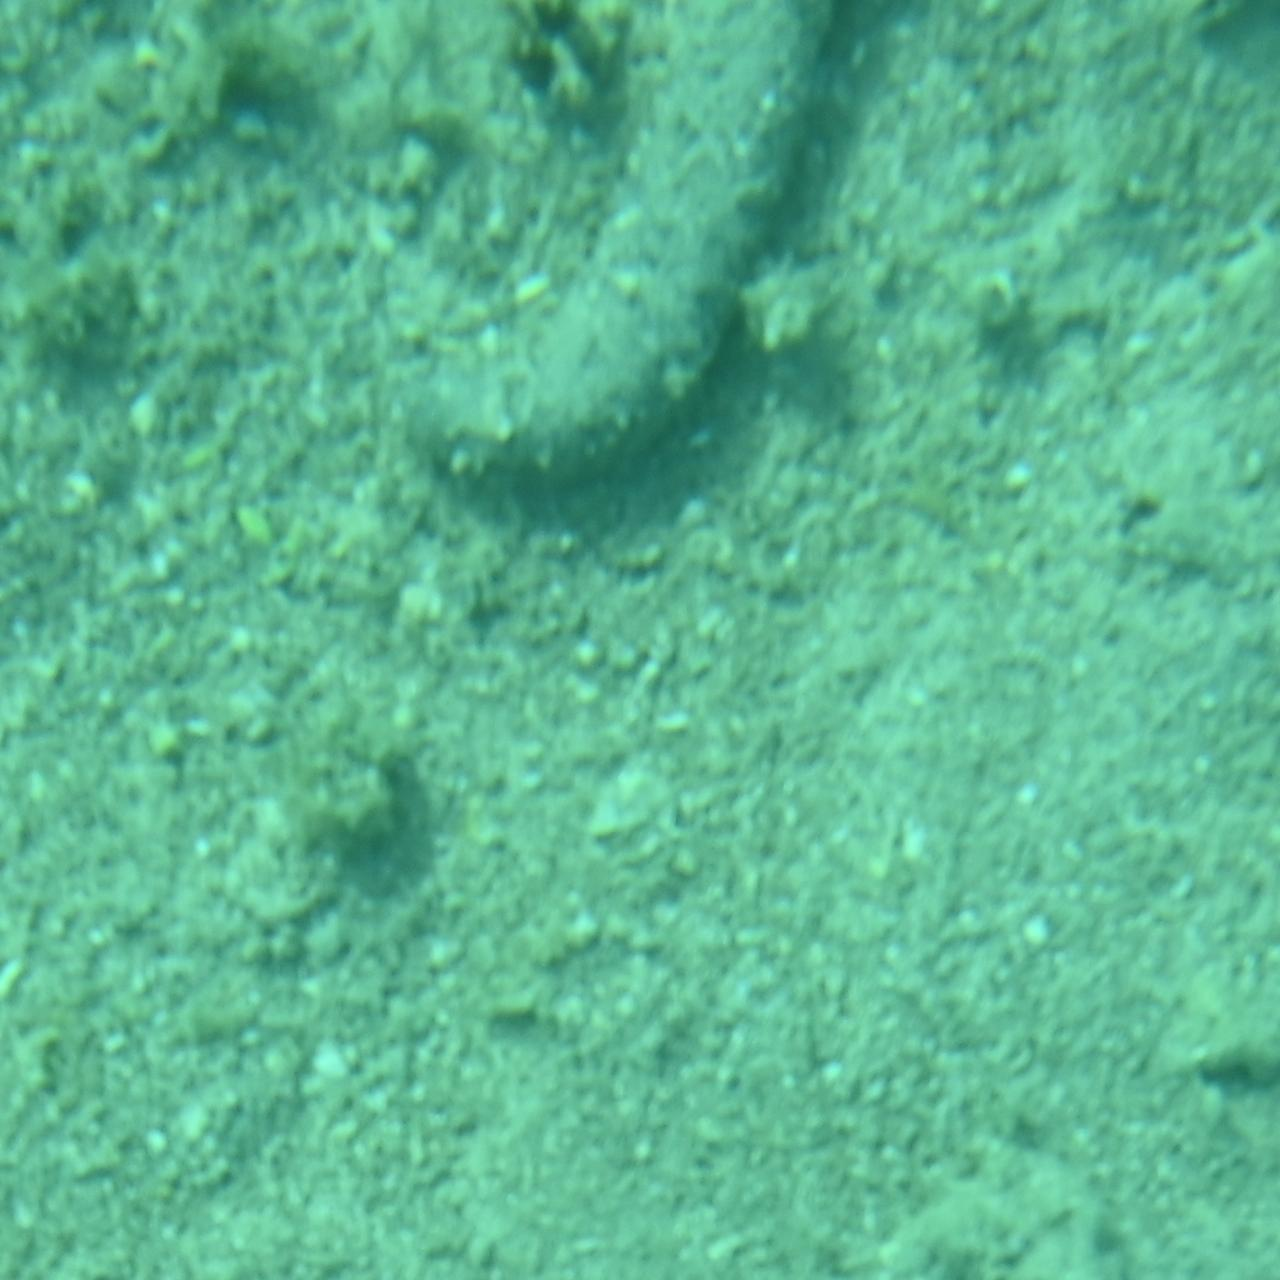Holothuria tubulosa: (390, 2, 890, 501)
